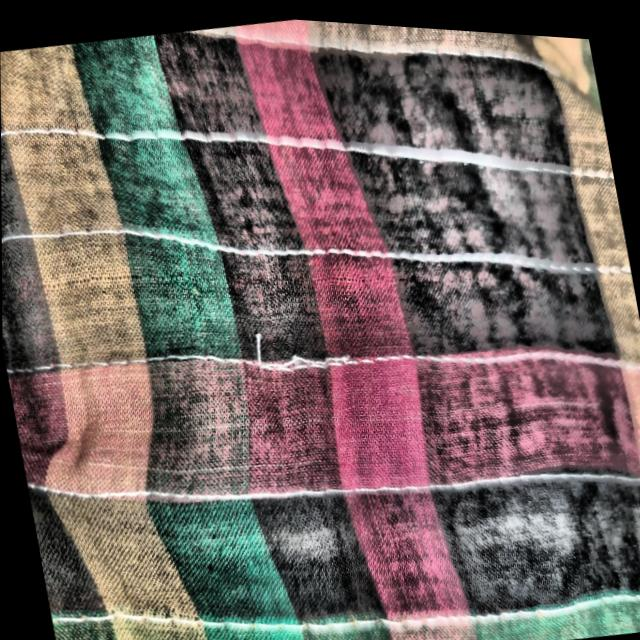Stitch: (218, 289, 371, 393)
